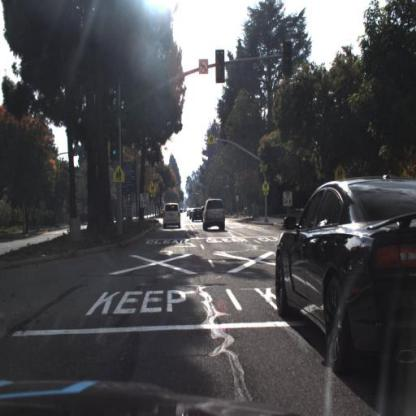car: (275, 157, 415, 412), (201, 198, 227, 233), (162, 203, 183, 232), (193, 208, 207, 224), (189, 209, 196, 220)
trafficLight: (215, 48, 227, 87), (284, 41, 293, 72)
trafficLight-Green: (109, 127, 121, 161), (110, 127, 120, 163), (284, 40, 293, 77), (217, 50, 226, 85)
